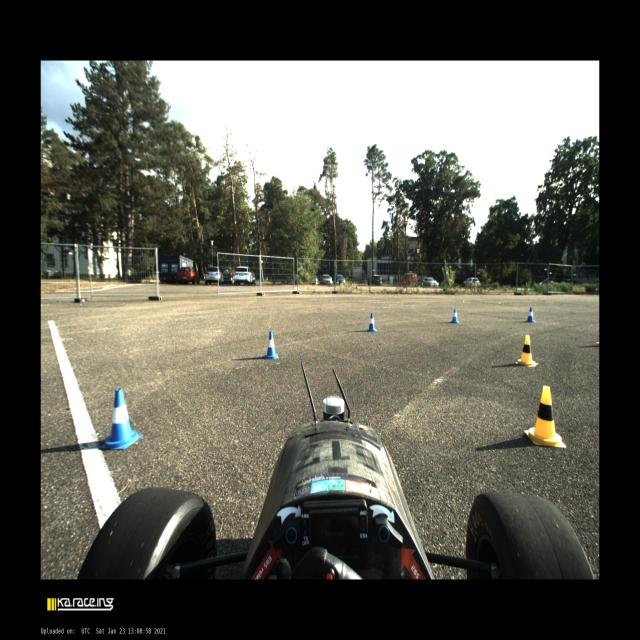blue_cone: (101, 388, 142, 449), (264, 331, 279, 358), (367, 313, 377, 331), (524, 307, 535, 322), (451, 308, 458, 323)
yellow_cone: (524, 386, 566, 448), (515, 335, 538, 367)
